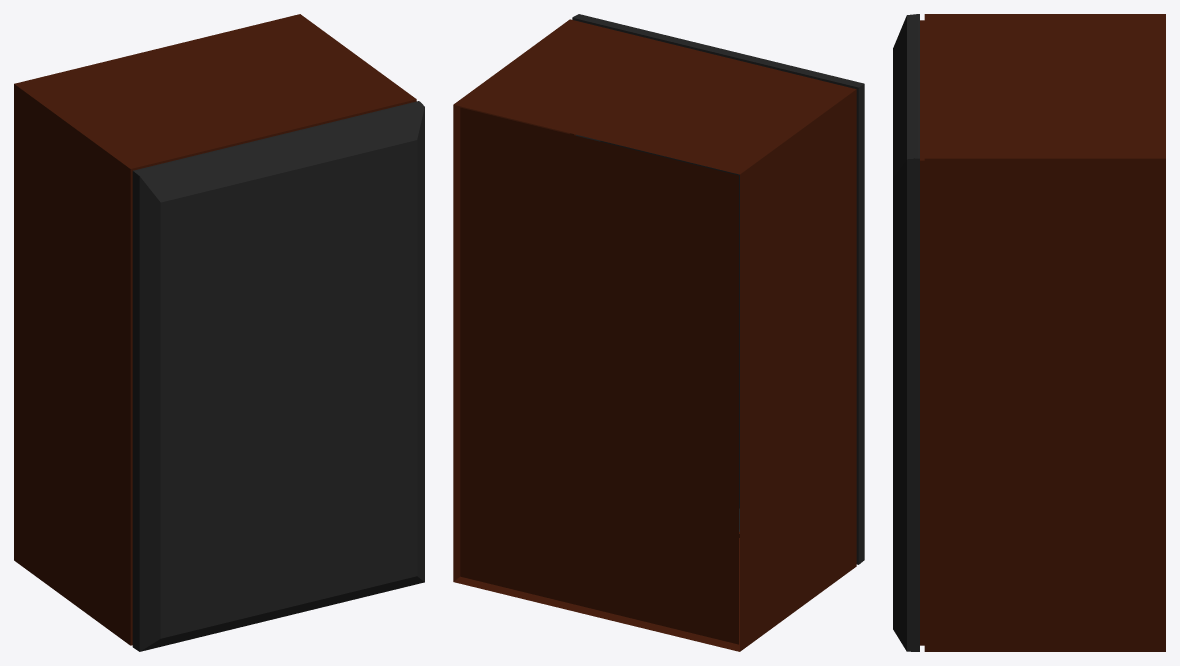
Rendered from speaker.dae.
3 renders of one model, left to right at view 1: azimuth 30°, elevation 25°; view 2: azimuth 150°, elevation 25°; view 3: azimuth 270°, elevation 25°, orthographic. The views are drawn at different scales.
Visible parts, largest first — view 1: SpeakerBody; view 2: SpeakerBody; view 3: SpeakerBody.
Part boxes in pixels (bbox=[...]): SpeakerBody: bbox=[14, 14, 424, 651]; SpeakerBody: bbox=[453, 14, 864, 651]; SpeakerBody: bbox=[893, 14, 1165, 651].
Bounding box in the file's own units: 0.2506 × 0.1999 × 0.4161.
